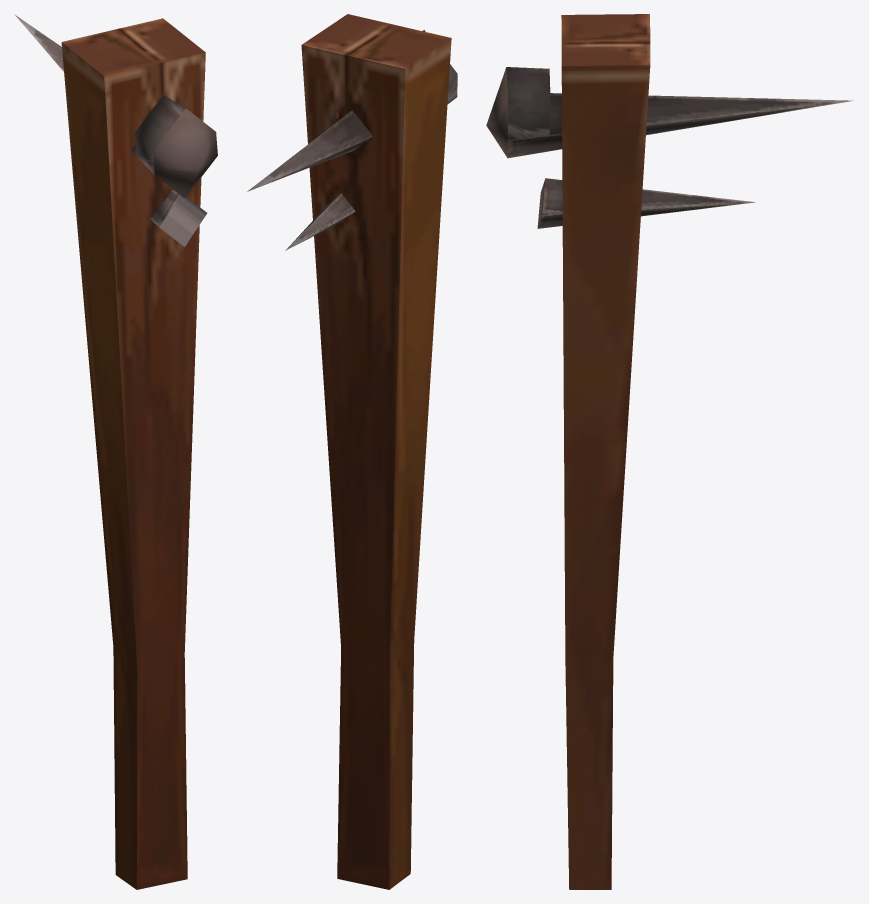
File: hammer_bandit01_11d84a9c.glb
The picture shows the model from 3 angles, left to right: view 1: azimuth 30°, elevation 25°; view 2: azimuth 150°, elevation 25°; view 3: azimuth 270°, elevation 25°; orthographic projection. The views are drawn at different scales.
Bounding box in the file's own units: 0.2047 × 1.57 × 0.6301.
Materials: 1 (1 with a texture image).
